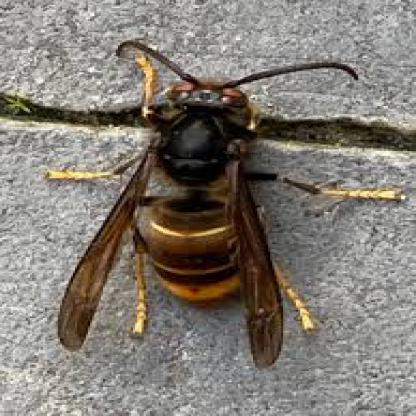asian: (60, 39, 396, 395)
